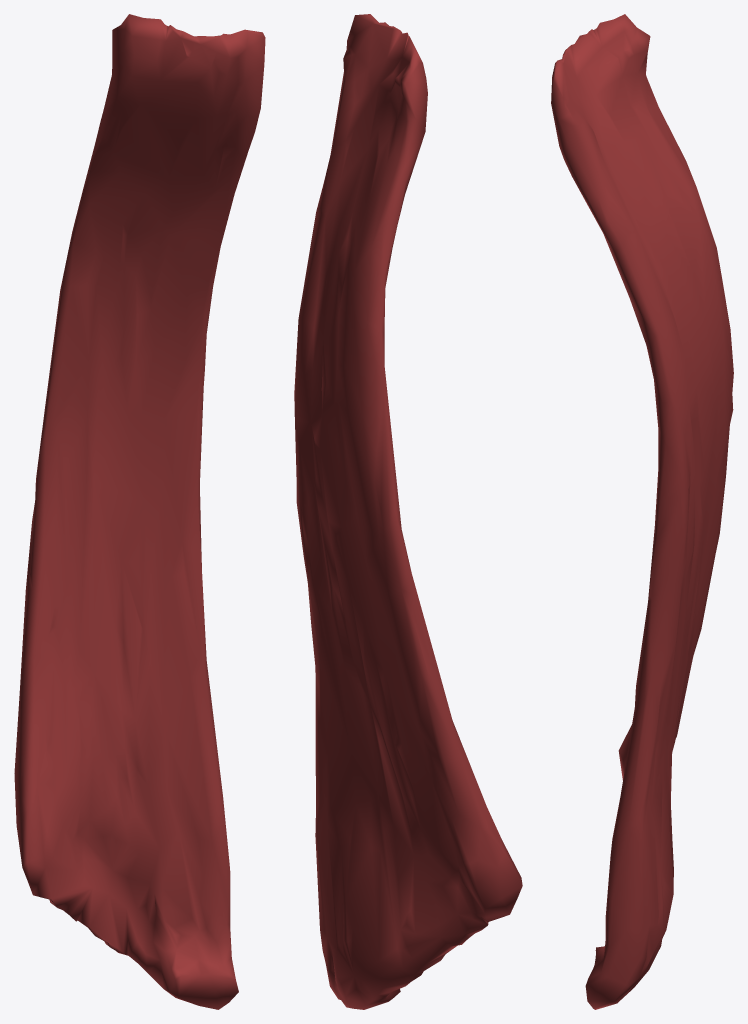
Rendered from sternohyoid-muscle-r.glb.
3 renders of one model, left to right at view 1: azimuth 30°, elevation 25°; view 2: azimuth 150°, elevation 25°; view 3: azimuth 270°, elevation 25°, orthographic. The views are drawn at different scales.
Parts seen in each view (by area): view 1: Sternohyoid muscle.r; view 2: Sternohyoid muscle.r; view 3: Sternohyoid muscle.r.
Boxes of the visible parts, x1,y1,x2,y2 form: Sternohyoid muscle.r: [14, 14, 265, 1009]; Sternohyoid muscle.r: [294, 14, 522, 1009]; Sternohyoid muscle.r: [551, 14, 733, 1009].
Bounding box in the file's own units: 0.0238 × 0.1081 × 0.0186.
